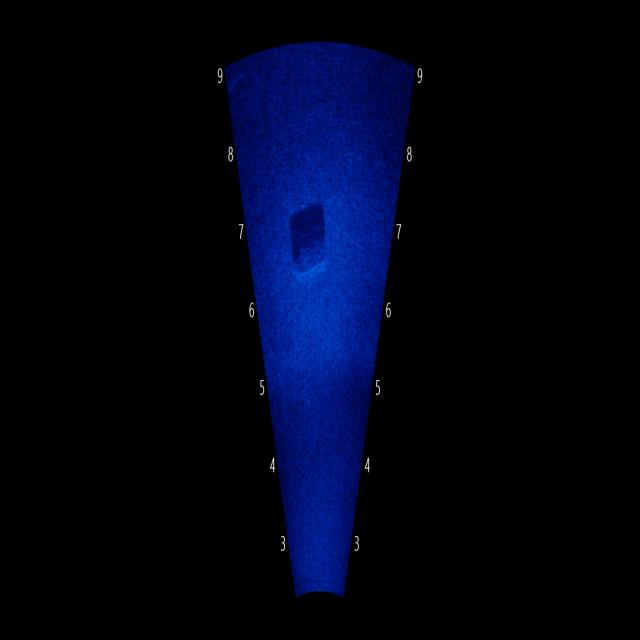square: (286, 180, 334, 294)
